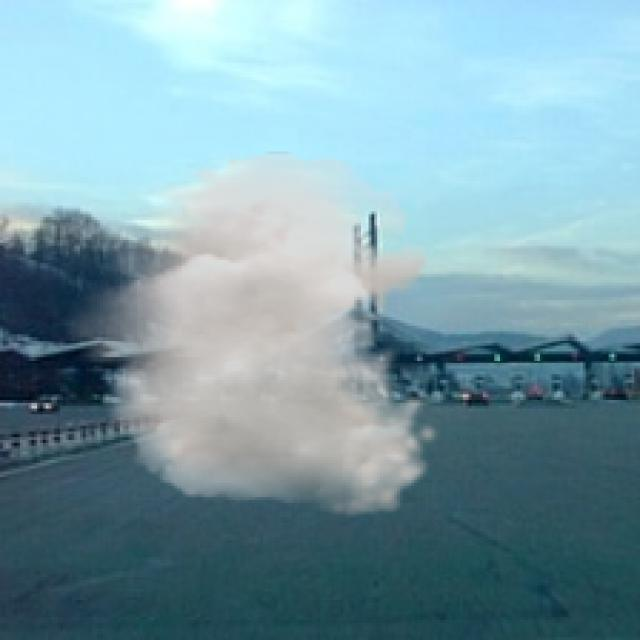Smoke: (57, 152, 440, 517)
